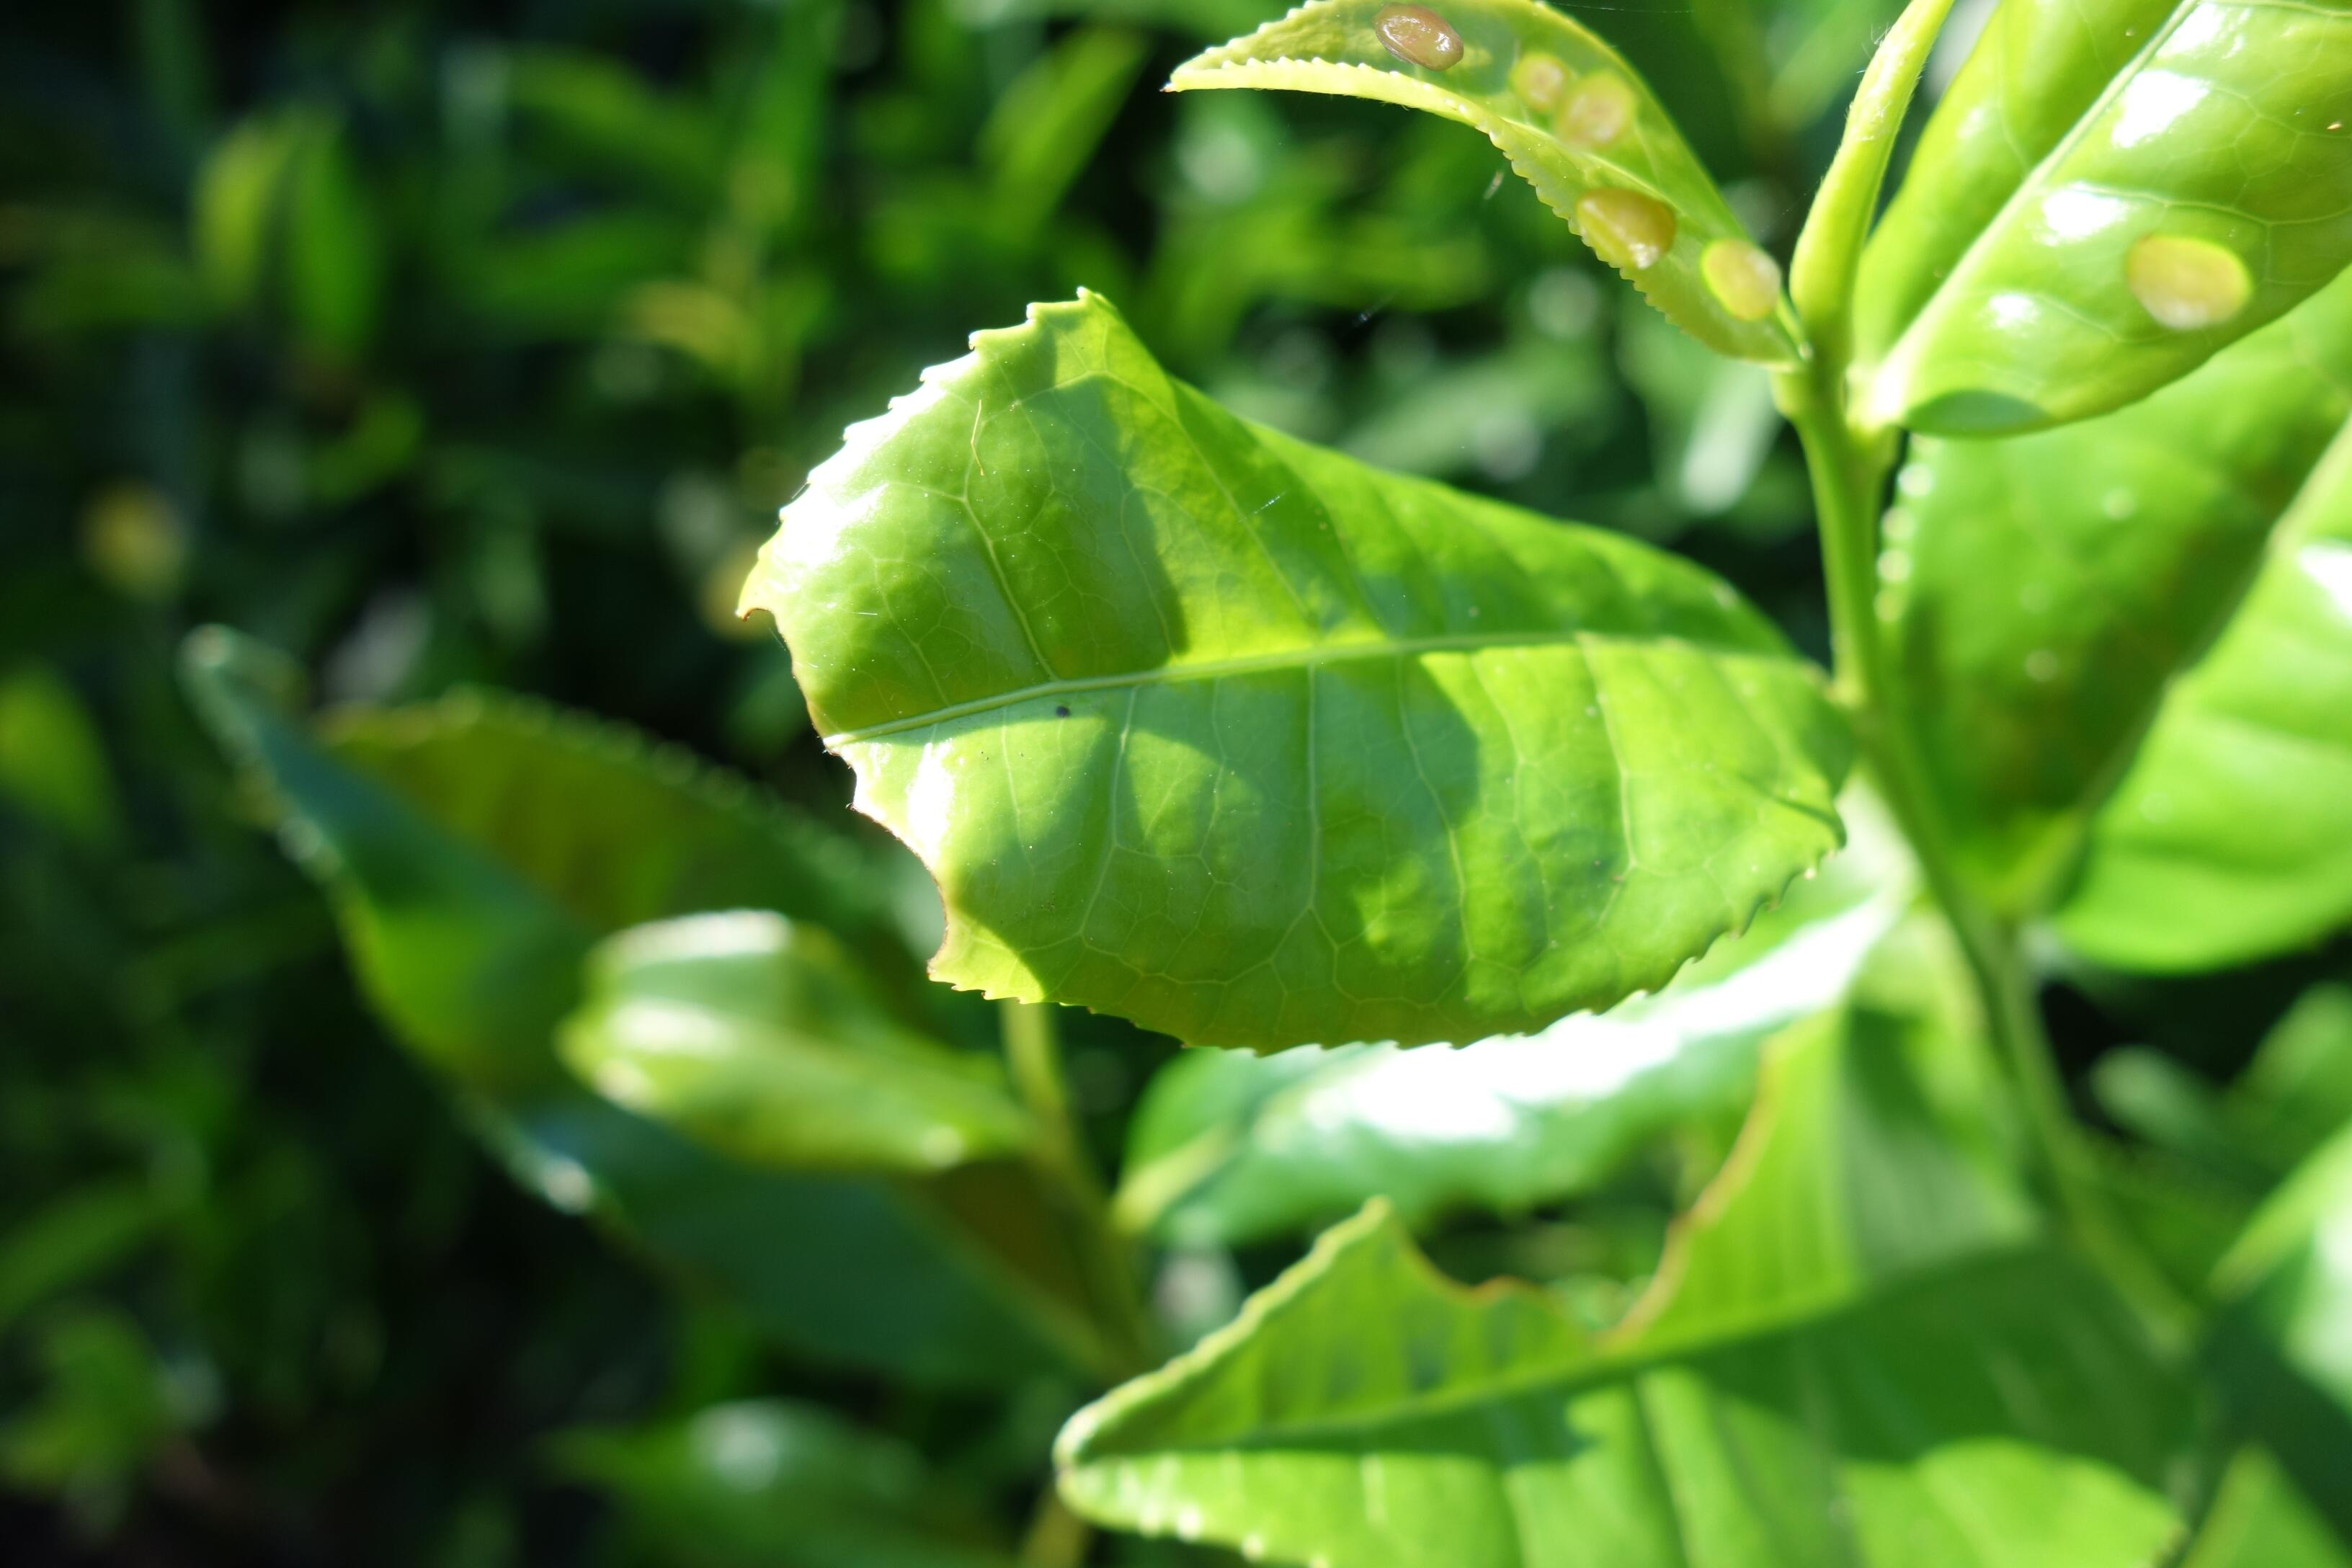chabing_high: (1162, 5, 1816, 376)
chabing_low: (1848, 5, 2350, 446)
chihuo_low: (737, 287, 1857, 1055)
